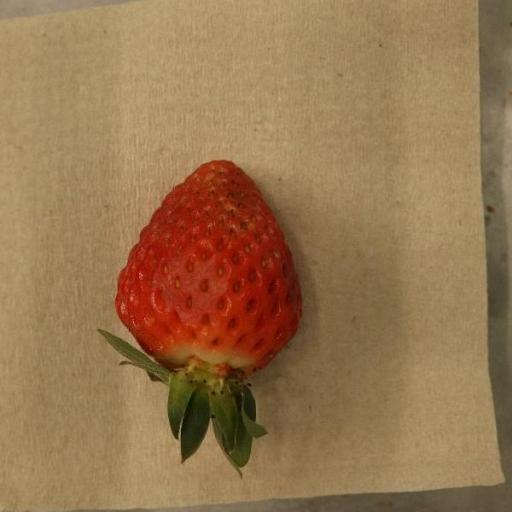Strawberry: (97, 161, 303, 472)
